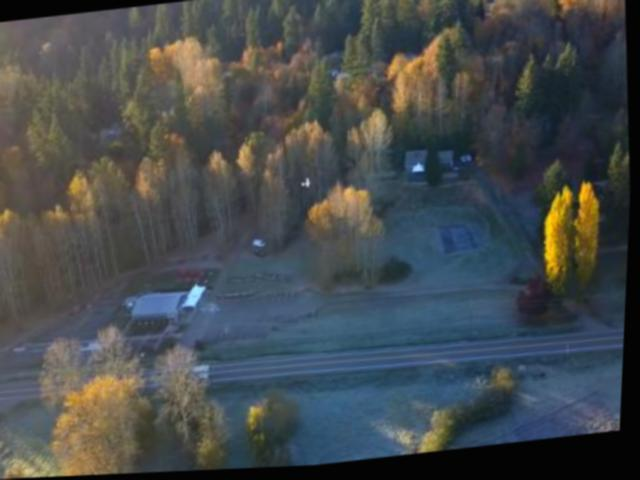uav: (297, 173, 321, 195)
